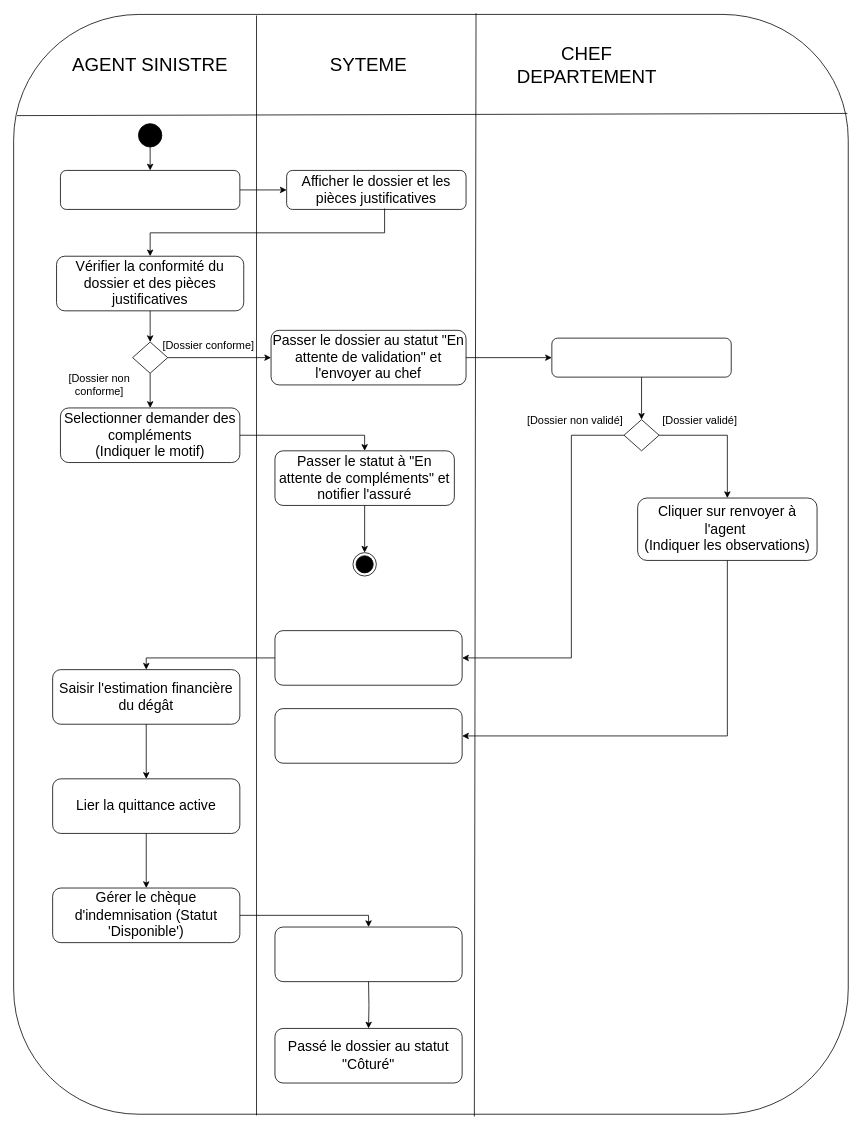
Image size: 862x1132. Some labels were removed from this diagram. Here are the shapes that lost their labels. From the top down, the centre of each, then its label:
point (150, 189): Sélectionner un dossier au statut "Soumis"
point (641, 357): Consulter le dossier
point (368, 657): Passer le statut à "En cours" et générer le numéro de sinistre
point (368, 735): Modifier le statut à "A corriger"
point (368, 954): Enregistrer le montant retenu en Base de données
